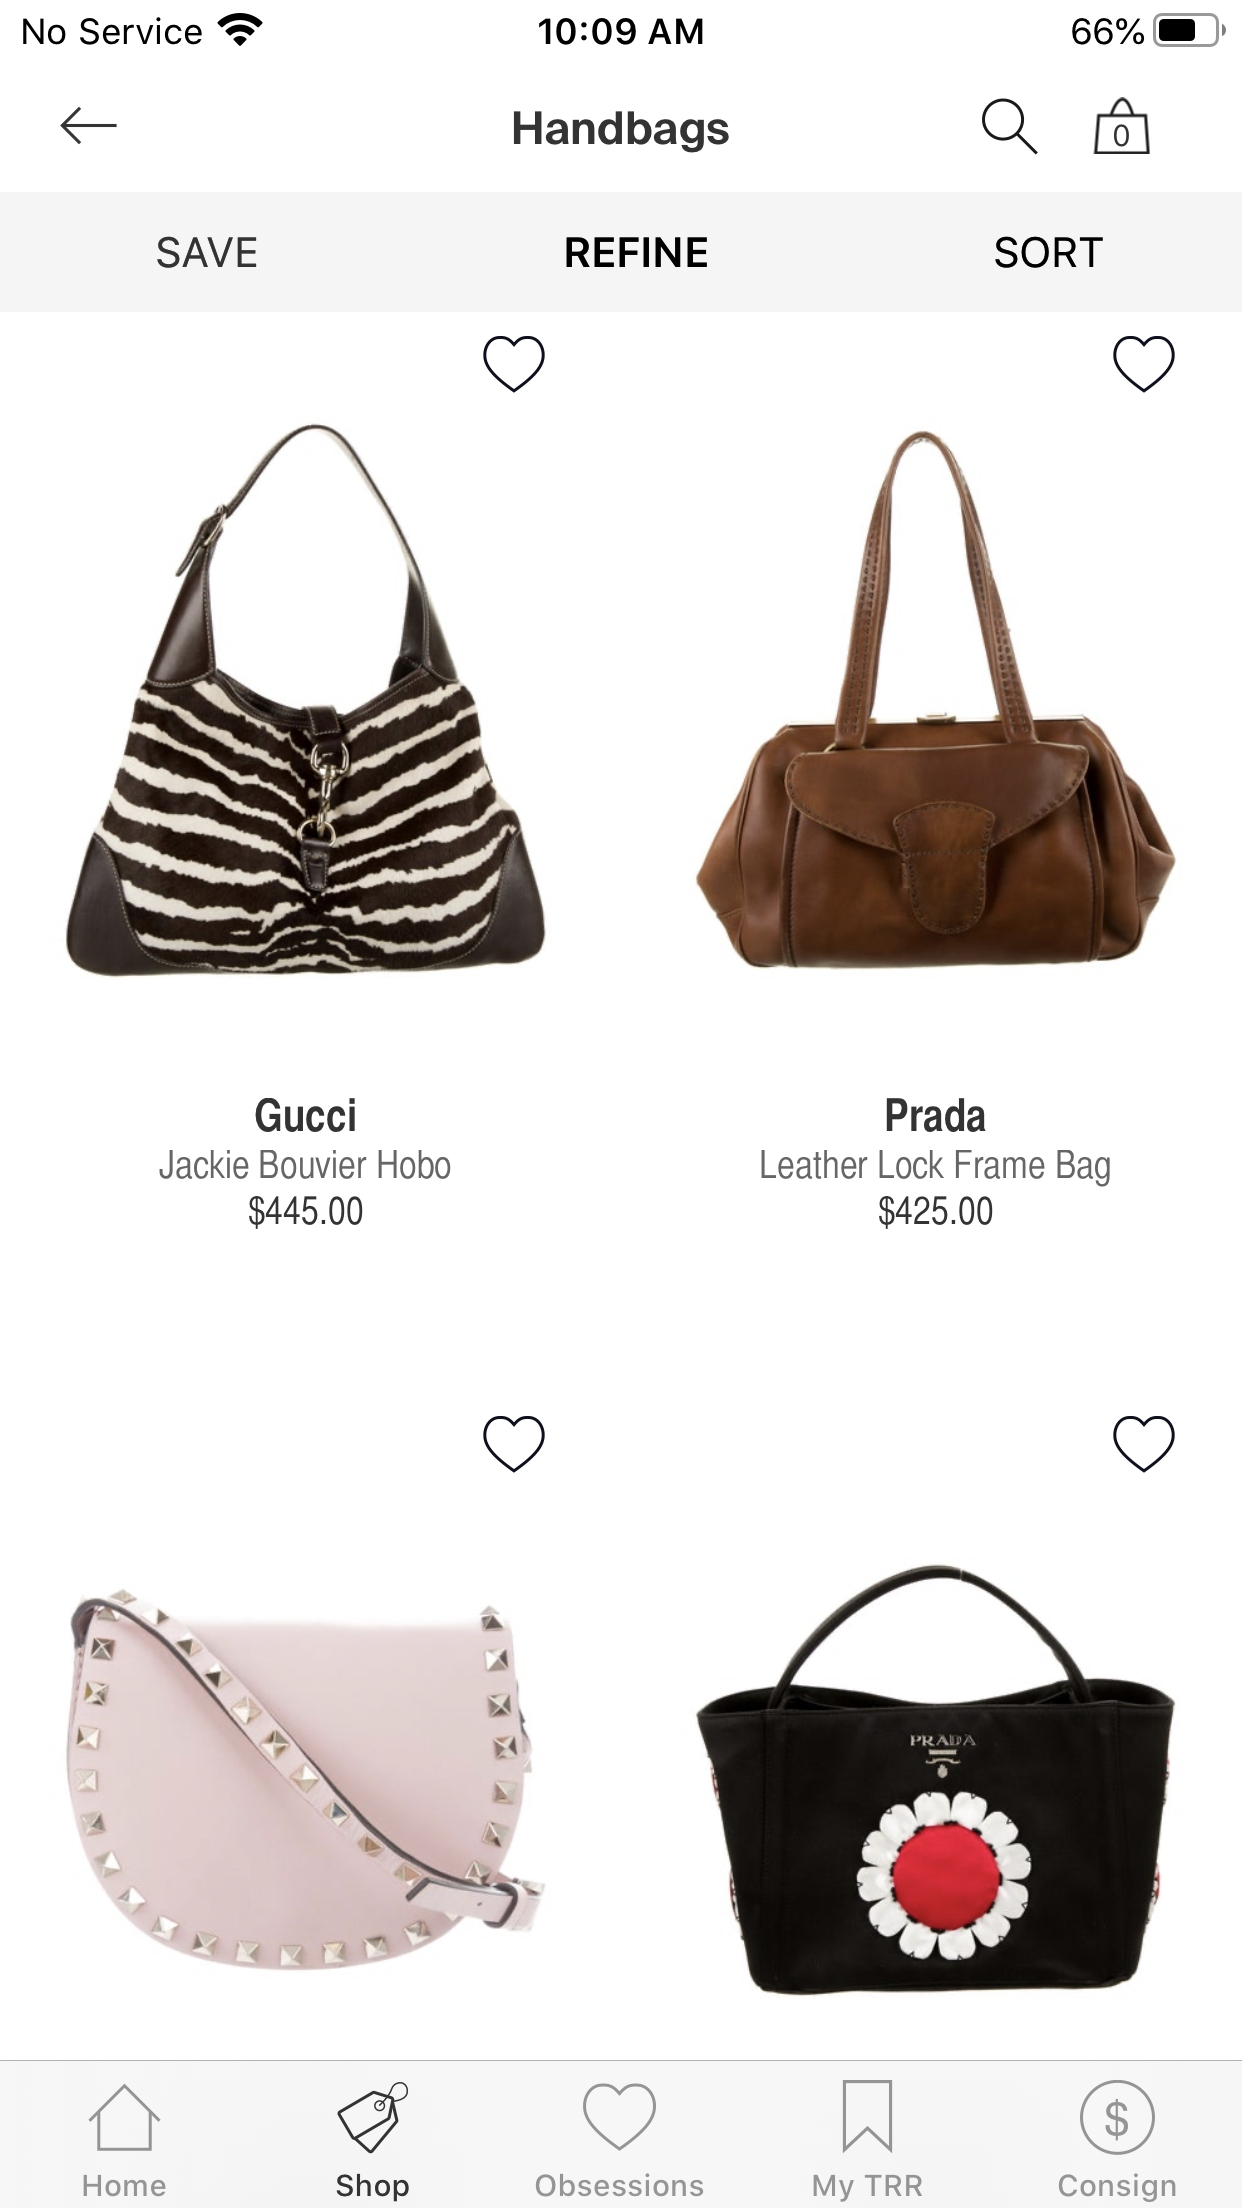Icon: (1080, 2081, 1156, 2153), (337, 2082, 408, 2153), (582, 2084, 657, 2150), (88, 2084, 161, 2150), (842, 2081, 893, 2153), (482, 1415, 544, 1473), (1113, 1415, 1175, 1473), (1113, 335, 1175, 391), (482, 335, 544, 391), (983, 99, 1037, 155), (61, 108, 117, 144)
Image: (67, 425, 546, 977), (696, 431, 1175, 971), (696, 1563, 1175, 1996), (67, 1588, 544, 1970)
Text: (761, 1149, 1110, 1187), (513, 111, 729, 153), (159, 1149, 450, 1178), (566, 237, 707, 267), (535, 2173, 704, 2196), (880, 1197, 993, 1228), (249, 1197, 362, 1228), (995, 237, 1102, 268), (1059, 2172, 1175, 2200), (886, 1098, 986, 1131), (255, 1098, 355, 1131), (1093, 97, 1149, 155), (158, 237, 256, 268), (813, 2175, 922, 2202), (337, 2173, 409, 2202), (83, 2175, 165, 2197)
UpperTaskBar: (2, 2, 1242, 49)
